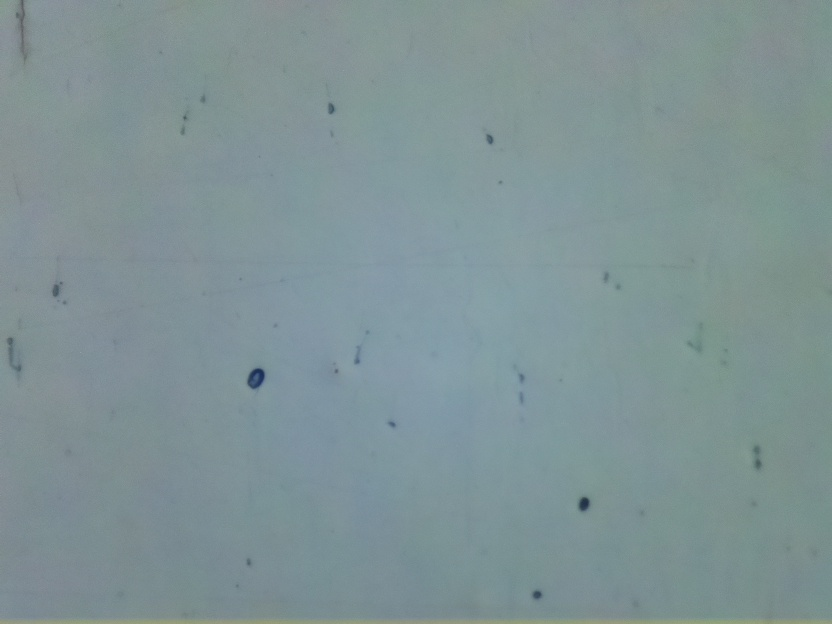crack: (11, 0, 41, 70)
